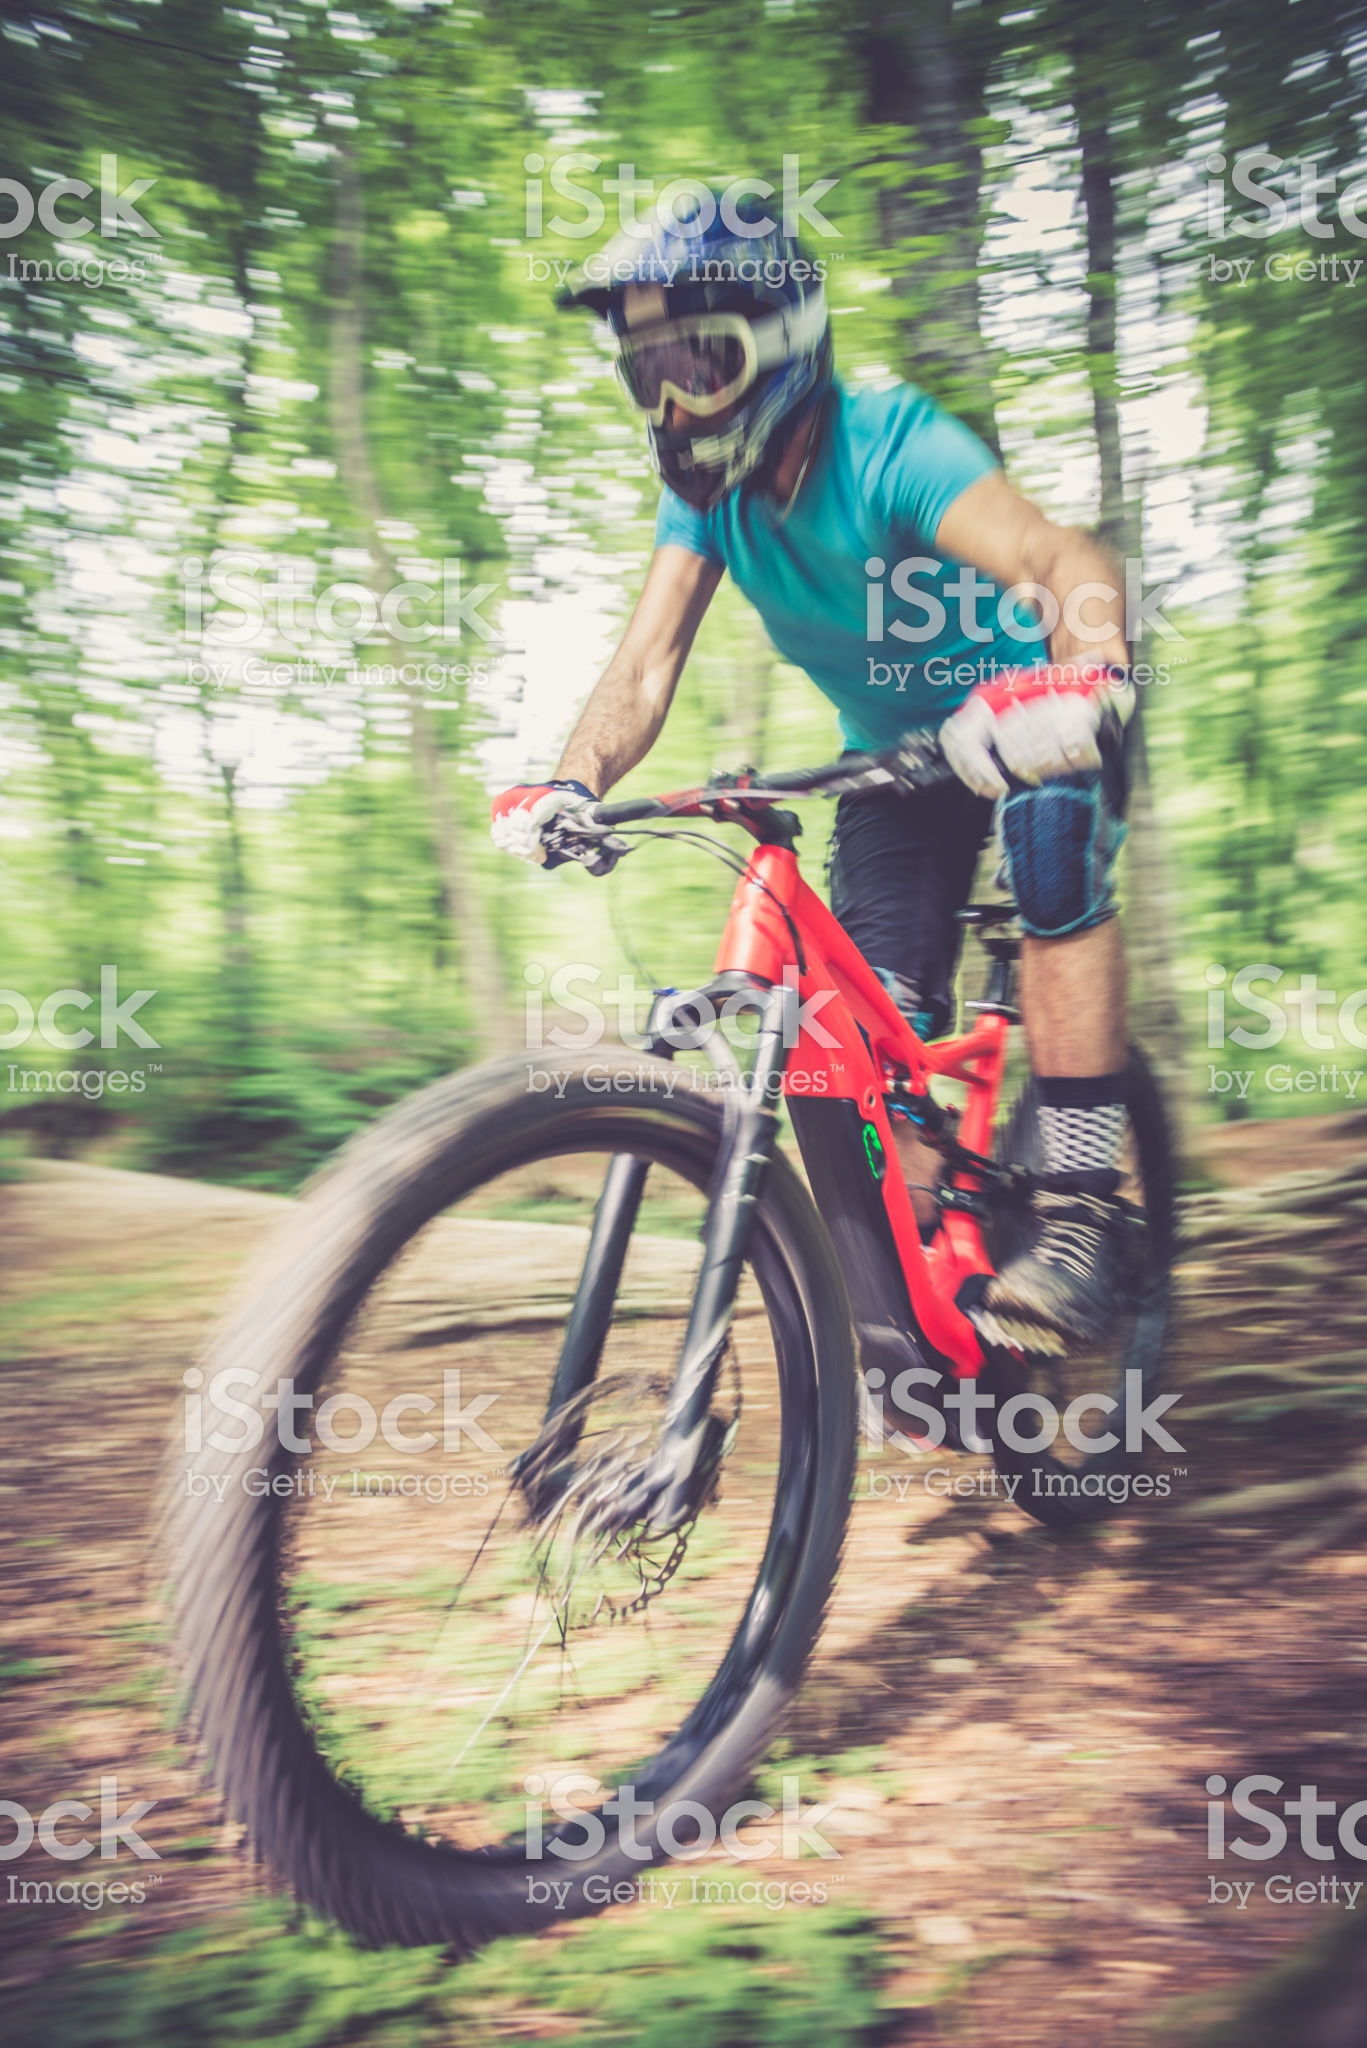helmet: (552, 146, 839, 503)
